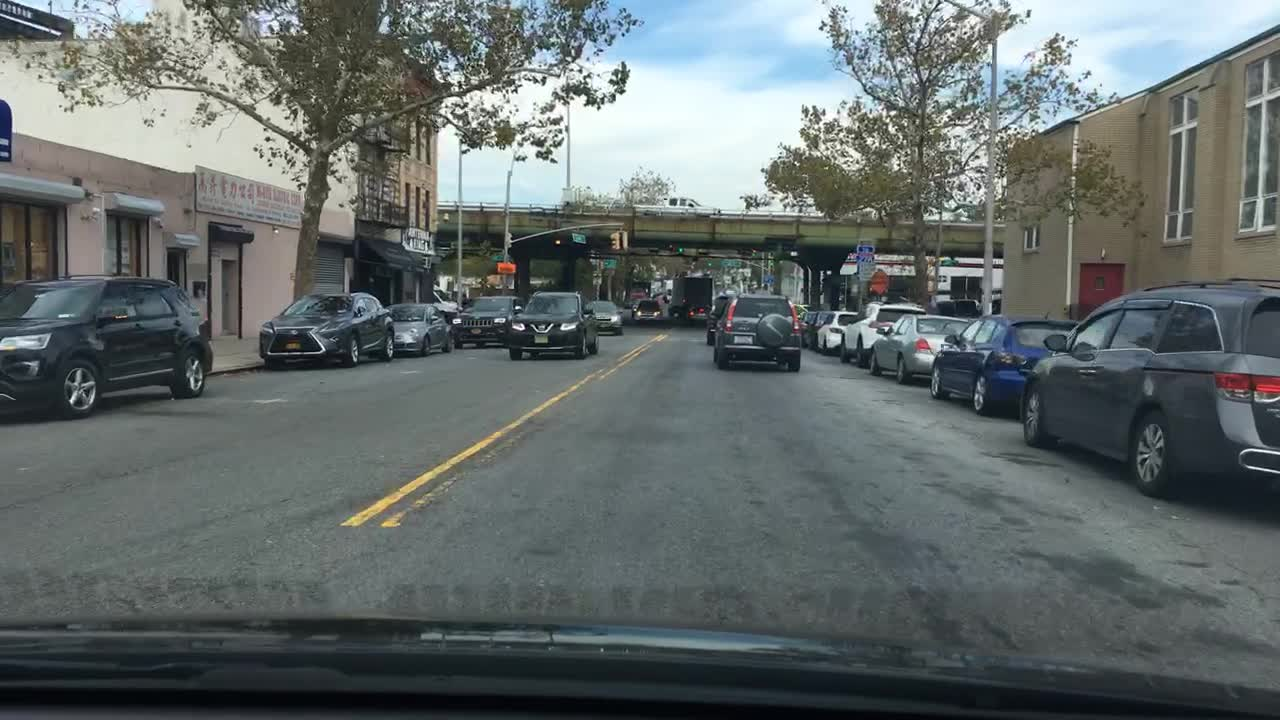car: (1023, 281, 1279, 493), (0, 275, 212, 417), (928, 312, 1085, 411), (255, 292, 396, 365), (865, 313, 973, 384), (712, 292, 800, 371), (508, 291, 592, 365), (509, 289, 598, 355), (837, 305, 926, 367), (450, 295, 522, 349), (385, 301, 453, 355), (705, 291, 737, 345), (816, 312, 857, 354), (587, 300, 623, 334), (807, 311, 833, 350), (633, 297, 662, 320), (798, 312, 817, 347), (666, 303, 693, 320), (790, 301, 809, 323), (631, 298, 644, 314), (698, 304, 711, 313)
traffic light: (611, 231, 619, 249), (623, 231, 628, 252), (678, 244, 683, 254)
traffic sign: (856, 240, 874, 278), (868, 270, 890, 294), (723, 259, 741, 266), (573, 232, 585, 242), (601, 260, 616, 267), (762, 275, 773, 283), (941, 260, 958, 265), (493, 253, 504, 260)
